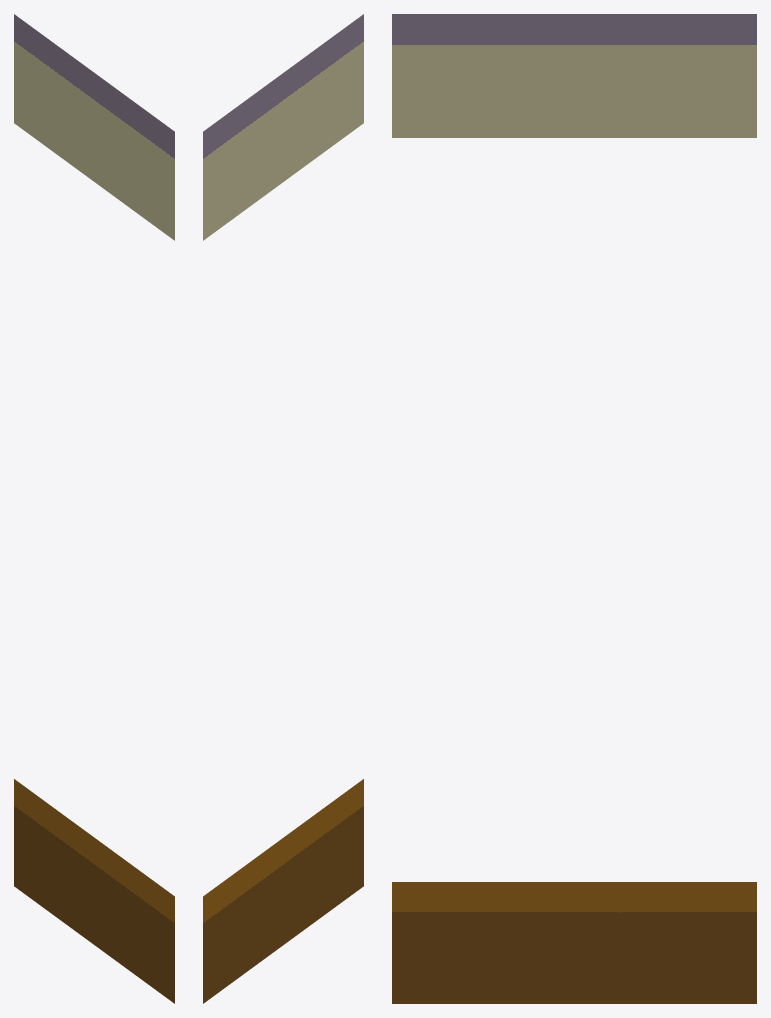
The picture shows the model from 3 angles, left to right: view 1: azimuth 30°, elevation 25°; view 2: azimuth 150°, elevation 25°; view 3: azimuth 270°, elevation 25°; orthographic projection. The views are drawn at different scales.
Bounding box in the file's own units: 0 × 2.99 × 1.
1 material, 1 textured.
